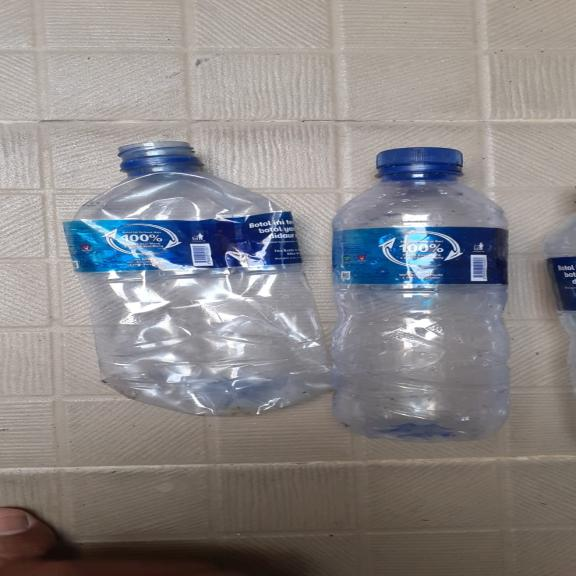Plastik: (45, 140, 335, 416), (325, 146, 519, 440)
